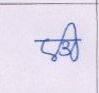i_matra: (66, 22, 81, 63)
